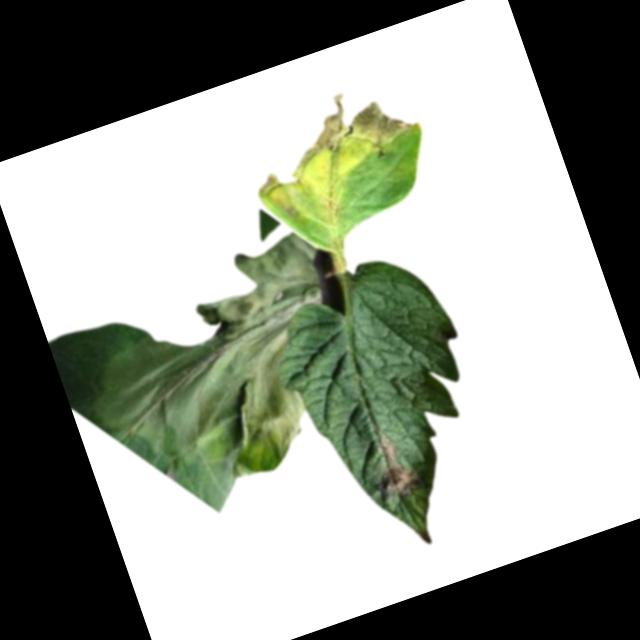Late_blight: (58, 236, 369, 512), (244, 73, 434, 240), (363, 430, 421, 507)
